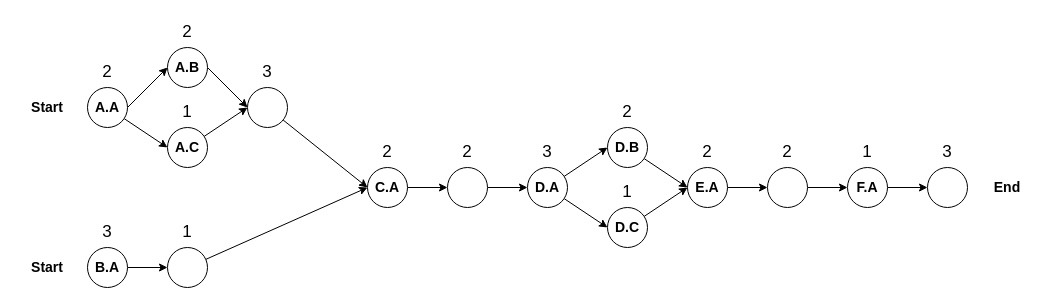
Some shapes in this 1054 by 305 pixel diagram are drawn without their labels. Each missing label, with the centre of its shape:
"A.D" belongs at pixel 267 107.
"B.B" belongs at pixel 187 267.
"C.B" belongs at pixel 467 187.
"E.B" belongs at pixel 787 187.
"F.B" belongs at pixel 947 187.
